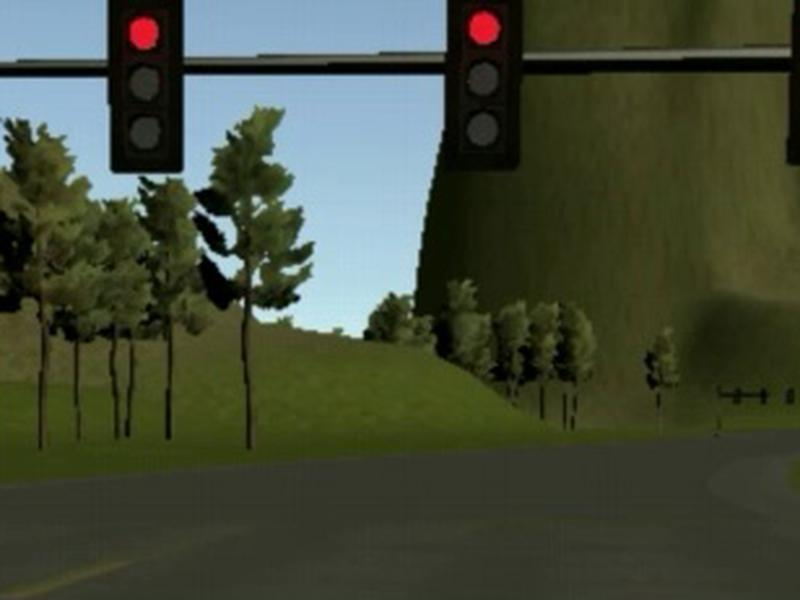Red: (107, 1, 183, 173), (446, 1, 520, 173)
